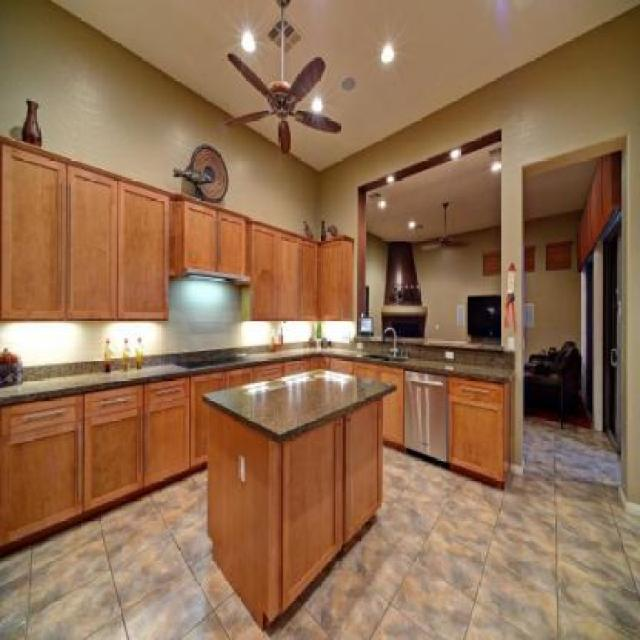floor: (2, 416, 640, 640)
